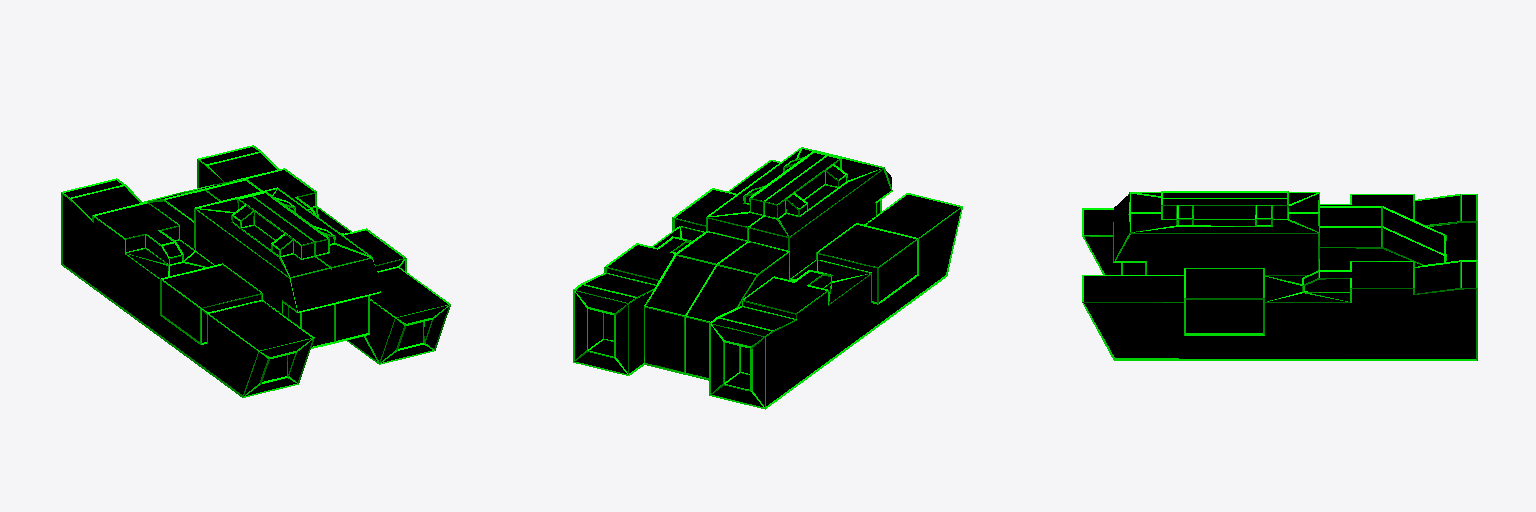
The model's file is enemy_wire_a.obj.
3 renders of one model, left to right at view 1: azimuth 30°, elevation 25°; view 2: azimuth 150°, elevation 25°; view 3: azimuth 270°, elevation 25°, orthographic.
Parts seen in each view (by area): view 1: craft_cargoB.001, craft_cargoB; view 2: craft_cargoB.001, craft_cargoB; view 3: craft_cargoB.001, craft_cargoB.
Boxes of the visible parts, x1=… form: craft_cargoB.001: x1=63, y1=147, x2=448, y2=395; craft_cargoB: x1=61, y1=145, x2=450, y2=397; craft_cargoB.001: x1=575, y1=149, x2=960, y2=406; craft_cargoB: x1=573, y1=147, x2=962, y2=409; craft_cargoB.001: x1=1084, y1=193, x2=1475, y2=358; craft_cargoB: x1=1082, y1=191, x2=1477, y2=360.
Bounding box in the file's own units: 1.51 × 0.8178 × 2.52.